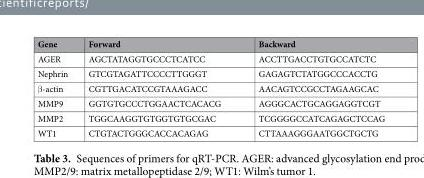table: (36, 37, 384, 138)
table column: (77, 37, 238, 138), (238, 37, 384, 138), (36, 37, 77, 138)
table column header: (36, 37, 384, 50)
table row: (36, 50, 384, 65), (36, 65, 384, 80), (36, 80, 384, 95), (36, 95, 384, 110), (36, 110, 384, 125), (36, 37, 384, 50), (36, 125, 384, 138)
